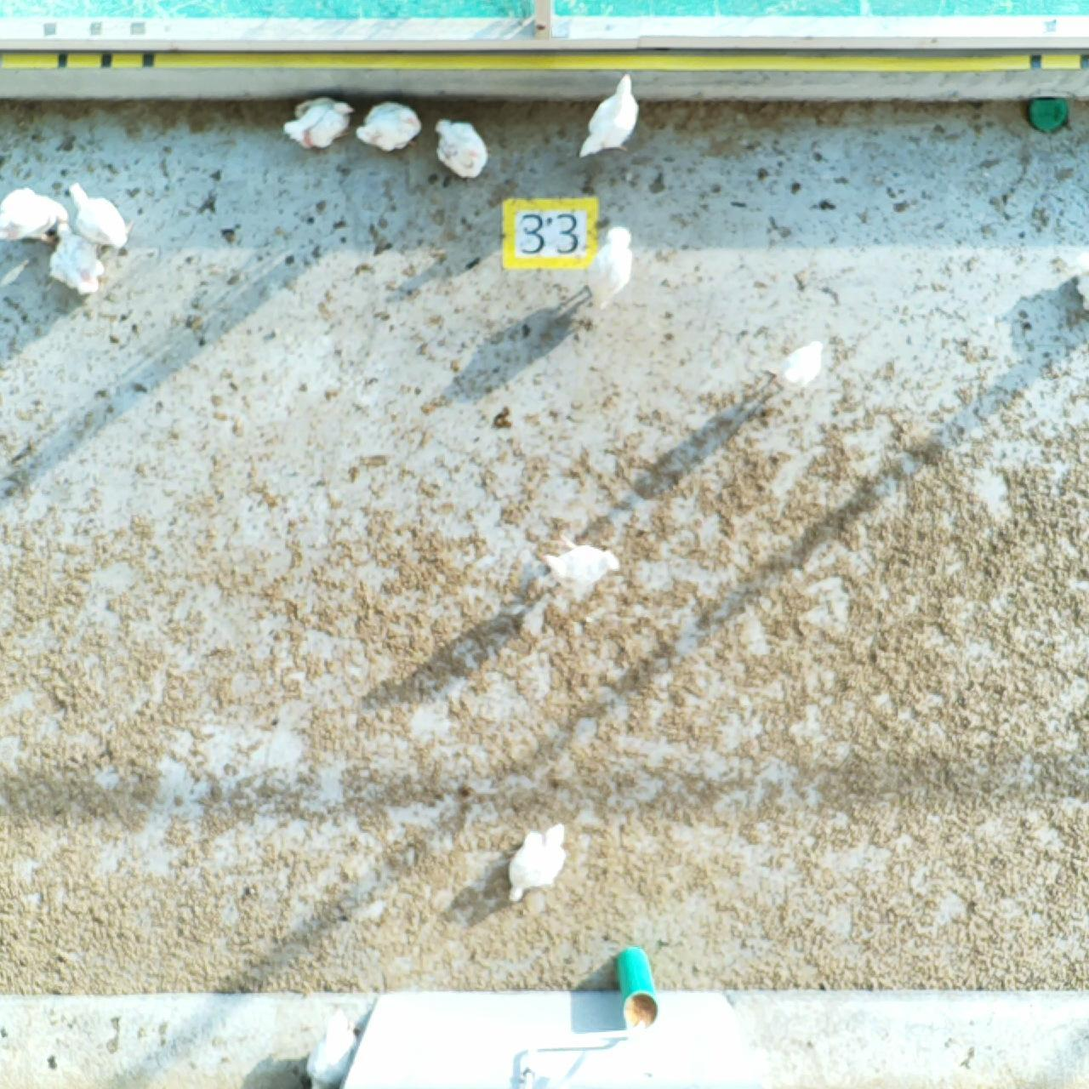chicken: (579, 74, 642, 161), (509, 819, 568, 899), (46, 217, 105, 294), (67, 181, 134, 248), (304, 1006, 361, 1082), (589, 228, 638, 315), (546, 544, 622, 599), (283, 95, 352, 148), (3, 189, 63, 246), (433, 121, 491, 178), (357, 104, 422, 150), (777, 341, 825, 392), (1076, 255, 1089, 315)
